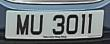0: (65, 11, 80, 37)
1: (79, 11, 88, 36), (85, 11, 94, 36)
3: (52, 12, 65, 37)
M: (15, 12, 30, 38)
U: (30, 12, 45, 38)
